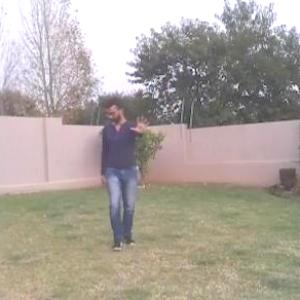follow_hand: (130, 111, 154, 136)
